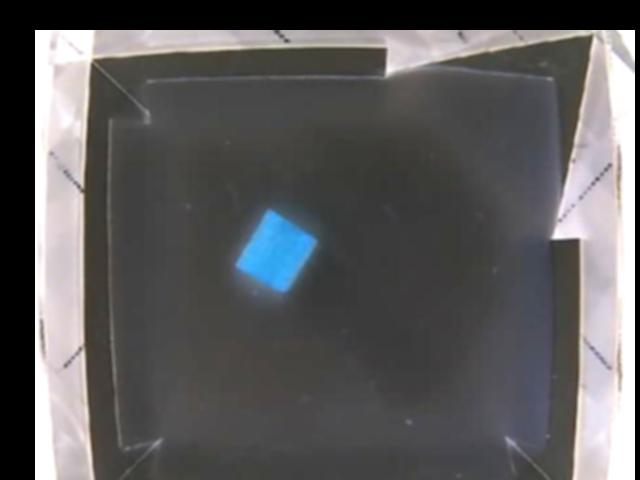Carrot: (240, 210, 314, 289)
